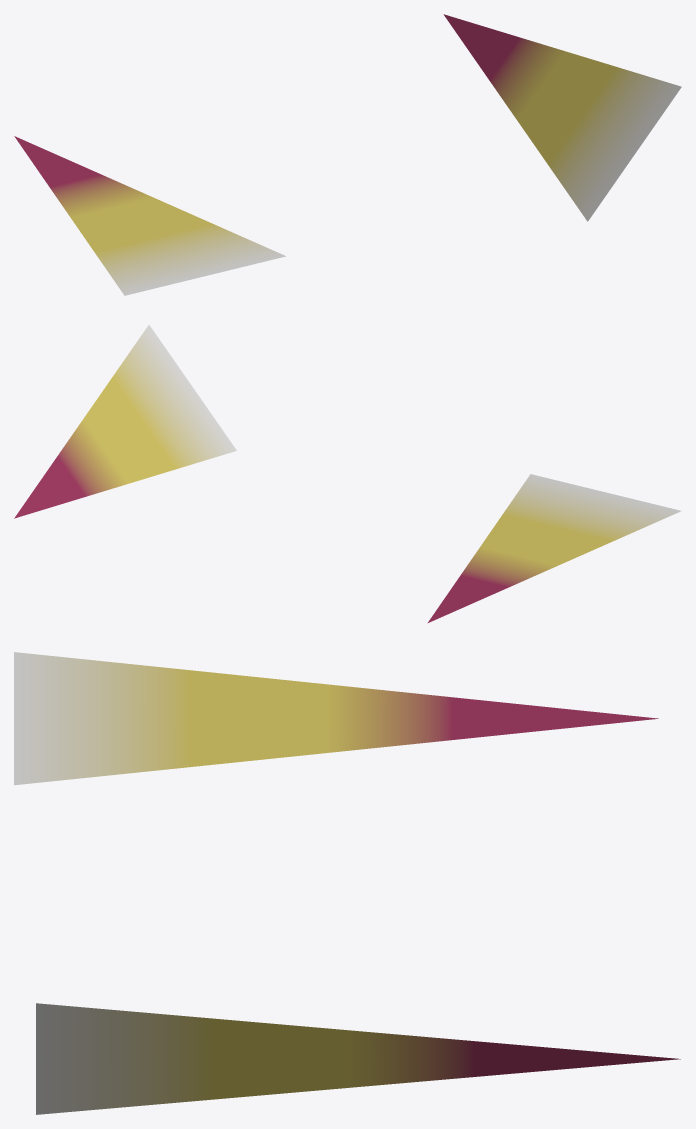
Rendered from spotlightBlur.fbx.
3 views of the same model, one above another, from view 1: azimuth 30°, elevation 25°; view 2: azimuth 150°, elevation 25°; view 3: azimuth 270°, elevation 25° (orthographic). The views are drawn at different scales.
Visible parts, largest first — view 1: spotlightBlur; view 2: spotlightBlur; view 3: spotlightBlur.
Boxes of the visible parts, x1,y1,x2,y2 form: spotlightBlur: (14, 14, 681, 295); spotlightBlur: (14, 325, 681, 623); spotlightBlur: (14, 652, 680, 1114).
Bounding box in the file's own units: 597 × 114 × 363.
